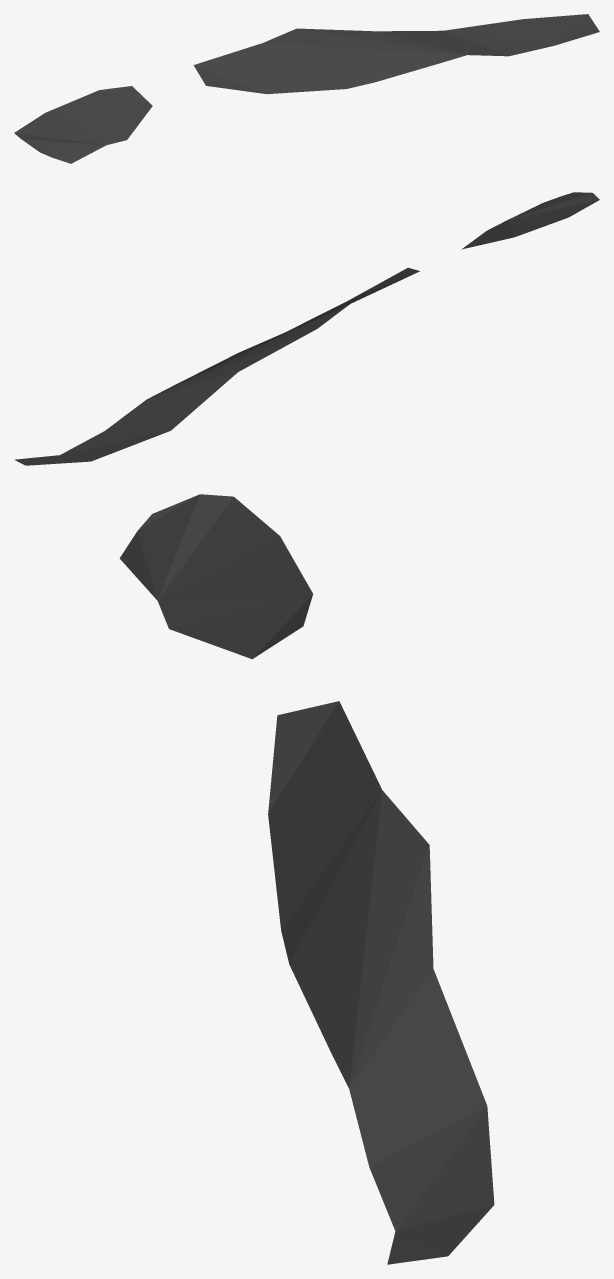
The model's file is A_pudendal_internal_R_A_pudendal_internal_R.glb.
The picture shows the model from 3 angles, top to bottom: view 1: azimuth 30°, elevation 25°; view 2: azimuth 210°, elevation 25°; view 3: azimuth 270°, elevation 25°; orthographic projection. The views are drawn at different scales.
Visible parts, largest first — view 1: A_pudendal_internal_R_A_pudendal_internal_R; view 2: A_pudendal_internal_R_A_pudendal_internal_R; view 3: A_pudendal_internal_R_A_pudendal_internal_R.
Part boxes in pixels (bbox=[...]): A_pudendal_internal_R_A_pudendal_internal_R: bbox=[14, 14, 599, 163]; A_pudendal_internal_R_A_pudendal_internal_R: bbox=[14, 192, 599, 465]; A_pudendal_internal_R_A_pudendal_internal_R: bbox=[119, 494, 494, 1264].
Size of the model in its own units: 0.0146 by 0.00192 by 0.00376.
Materials: 1 (1 with a texture image).
